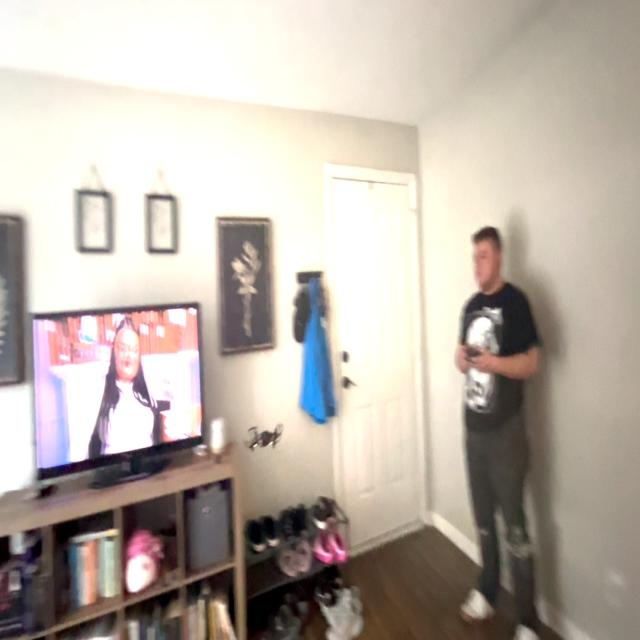drone: (238, 407, 294, 464)
